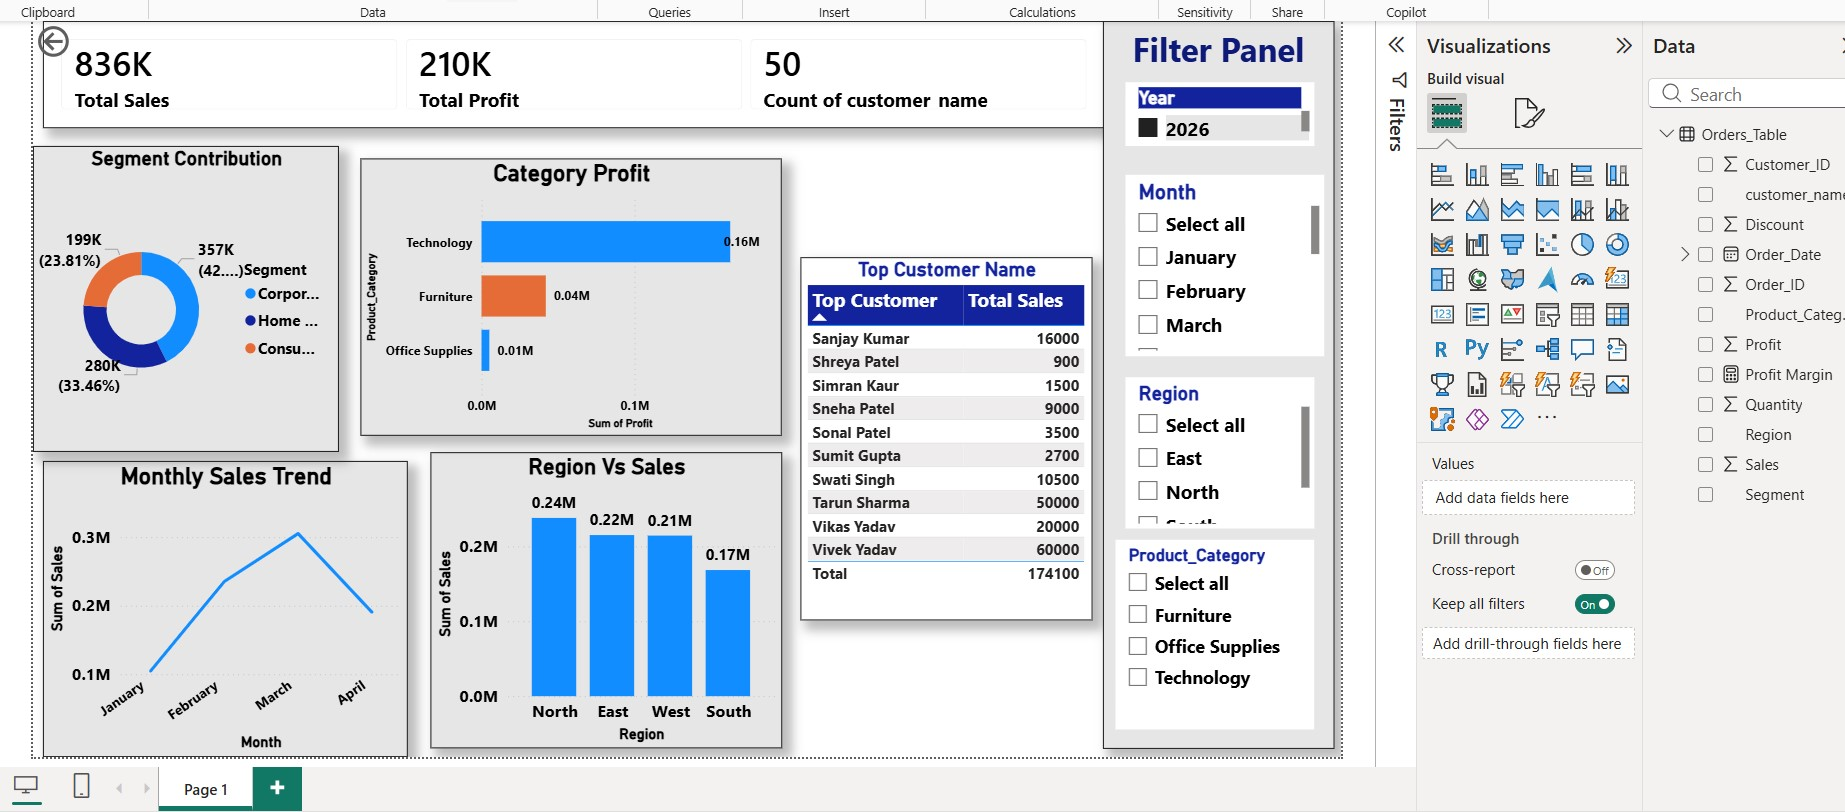

Layout of this report page (visuals, bound fields, positions):
{"tool":"powerbi","page":{"name":"Page 1","canvas":[1280,720],"ordinal":0},"visuals":[{"type":"cardVisual","fields":{"Data":["Sum(Orders_Table.Sales)","Sum(Orders_Table.Profit)","CountNonNull(Orders_Table.customer_name)"]},"box":[9.8,0,1040.6,105.2],"z":0},{"type":"lineChart","title":" Monthly Sales Trend","fields":{"Category":["Orders_Table.Order_Date.Variation.Date Hierarchy.Month"],"Y":["Sum(Orders_Table.Sales)"]},"box":[9.8,430.4,357.1,289.8],"z":1000},{"type":"clusteredColumnChart","title":"Region Vs Sales","fields":{"Y":["Sum(Orders_Table.Sales)"],"Category":["Orders_Table.Region"]},"box":[388.9,421.9,343.6,289.8],"z":2000},{"type":"barChart","title":"Category Profit","fields":{"Category":["Orders_Table.Product_Category"],"Y":["Sum(Orders_Table.Profit)"]},"box":[320.4,134.5,412.1,271.5],"z":3000},{"type":"tableEx","title":"Top Customer Name","fields":{"Values":["Orders_Table.customer_name","Sum(Orders_Table.Sales)"]},"box":[750.6,230.5,285.4,355.4],"z":4000},{"type":"donutChart","title":"Segment Contribution","fields":{"Category":["Orders_Table.Segment"],"Y":["Sum(Orders_Table.Sales)"]},"box":[0,122.3,299.6,299.6],"z":5000},{"type":"textbox","box":[1046.7,0,226.2,711.7],"z":5005},{"type":"slicer","fields":{"Values":["Orders_Table.Order_Date.Variation.Date Hierarchy.Year"]},"box":[1068.8,59.9,184.6,62.4],"z":5006},{"type":"slicer","fields":{"Values":["Orders_Table.Order_Date.Variation.Date Hierarchy.Month"]},"box":[1068.8,150.4,194.4,177.3],"z":5007},{"type":"slicer","fields":{"Values":["Orders_Table.Region"]},"box":[1068.8,348.5,184.6,148],"z":5008},{"type":"slicer","fields":{"Values":["Orders_Table.Product_Category"]},"box":[1059,507.5,194.4,185.9],"z":5009},{"type":"actionButton","box":[0,0,100,40],"z":5010}]}

Visuals, with their boxes on the page's 1280x720 design canvas (x1, y1, x2, y2). These are canvas units, not pixel positions in the 1845x812 screenshot, which may show the page scaled, cropped or inside an application window:
cardVisual - Sum(Orders_Table.Sales) x Sum(Orders_Table.Profit): 10/0/1050/105
" Monthly Sales Trend" lineChart: 10/430/367/720
"Region Vs Sales" clusteredColumnChart: 389/422/732/712
"Category Profit" barChart: 320/134/732/406
"Top Customer Name" tableEx: 751/230/1036/586
"Segment Contribution" donutChart: 0/122/300/422
textbox: 1047/0/1273/712
slicer - Orders_Table.Order_Date.Variation.Date Hierarchy.Year: 1069/60/1253/122
slicer - Orders_Table.Order_Date.Variation.Date Hierarchy.Month: 1069/150/1263/328
slicer - Orders_Table.Region: 1069/348/1253/496
slicer - Orders_Table.Product_Category: 1059/508/1253/693
actionButton: 0/0/100/40
